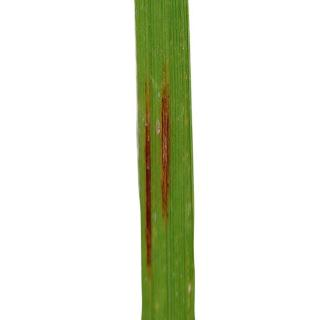Bercak-Cokelat-Sempit: (159, 71, 186, 225), (139, 66, 157, 284)
